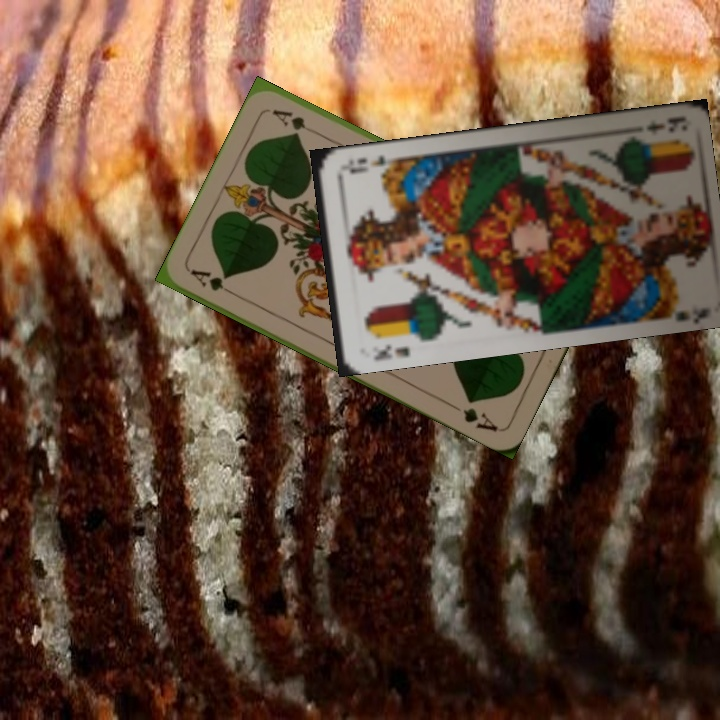EK: (642, 112, 683, 137), (370, 340, 412, 363)
GA: (186, 265, 241, 300)
